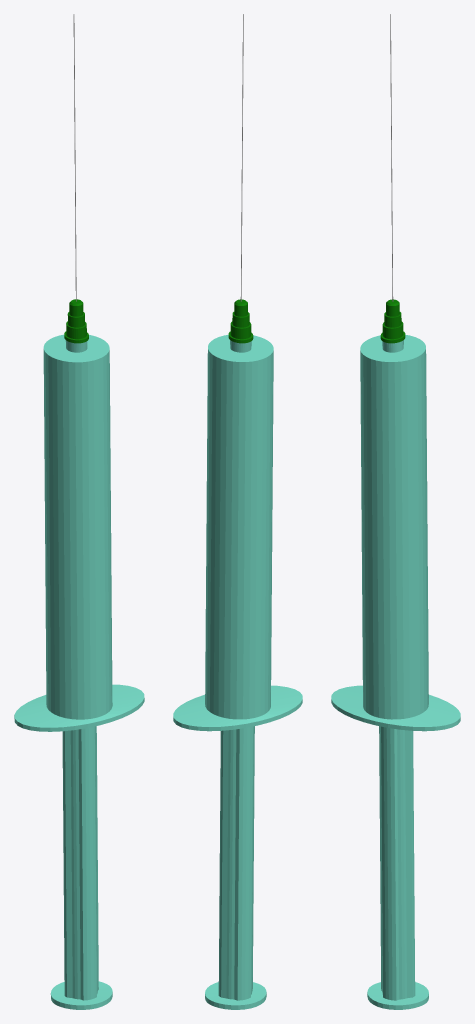
Rendered from seringa.fbx.
3 views of the same model, side by side, from view 1: azimuth 30°, elevation 25°; view 2: azimuth 210°, elevation 25°; view 3: azimuth 330°, elevation 25° (orthographic).
Parts seen in each view (by area): view 1: seringa; view 2: seringa; view 3: seringa.
Boxes of the visible parts, x1,y1,x2,y2 form: seringa: (14,14,144,1009); seringa: (173,14,302,1009); seringa: (331,14,460,1009).
Size of the model in its own units: 3.69 by 28.11 by 2.13.
